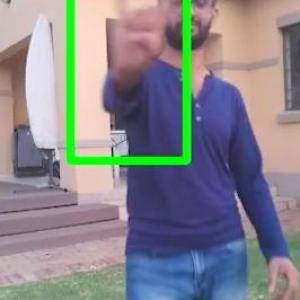takeoff-hand: (106, 0, 180, 97)
